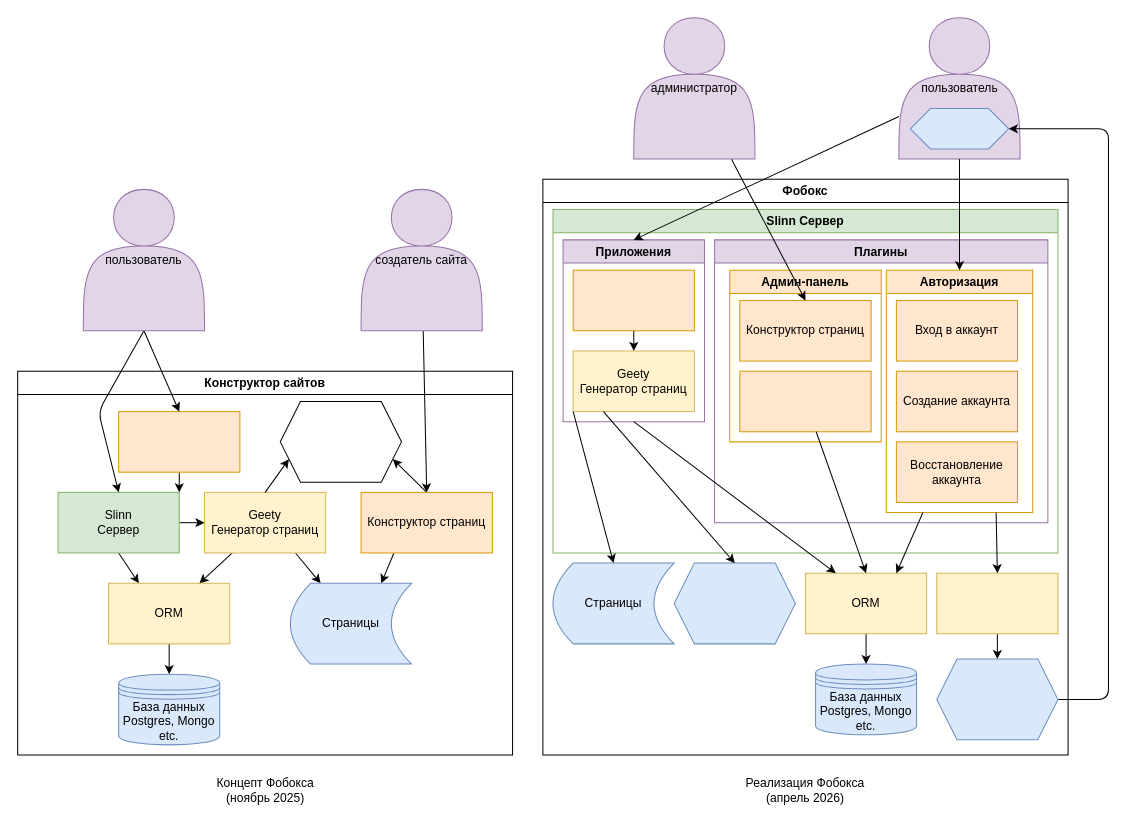
Image size: 1134x823. Some labels were removed from this diagram. The centre of each missing label's shape, as x and y in pixels:
"API" goes at (179,441).
"Gmail/Яндекс Почта/MailRU и т.д." goes at (997,699).
"Главное приложение" goes at (633,300).
"Графические компоненты" goes at (734,603).
"Графические компоненты и плагины" goes at (340,441).
"Почтовый сервис" goes at (997,603).
"Почтовый ящик" goes at (959,128).
"Управление страницами" goes at (805,401).
